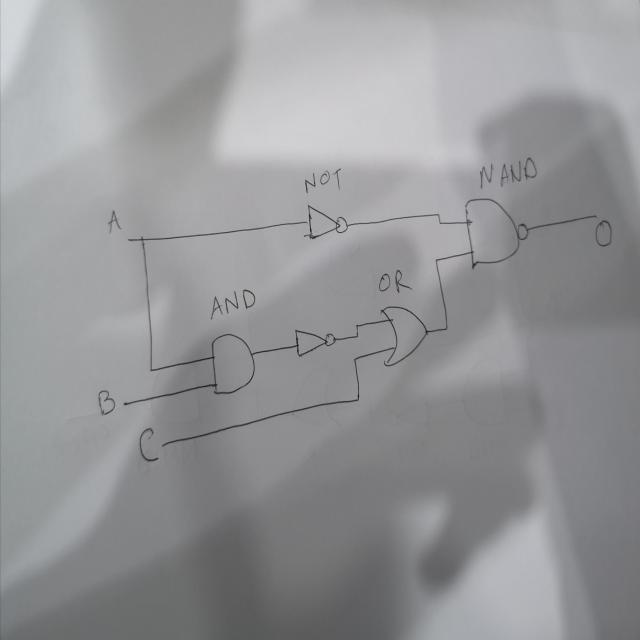junction: (138, 233, 147, 246), (354, 392, 361, 405), (432, 256, 440, 266), (351, 354, 358, 365), (442, 322, 449, 332), (436, 211, 441, 221), (148, 366, 154, 374), (436, 218, 442, 226), (354, 333, 359, 339), (354, 322, 358, 328)
terminal: (158, 437, 166, 452), (592, 209, 598, 221), (122, 398, 129, 408), (125, 235, 132, 244)
text: (478, 156, 539, 190), (304, 165, 344, 199), (210, 289, 256, 317), (138, 423, 160, 464), (376, 270, 410, 296), (95, 385, 117, 418), (594, 218, 614, 250), (107, 208, 122, 234)
